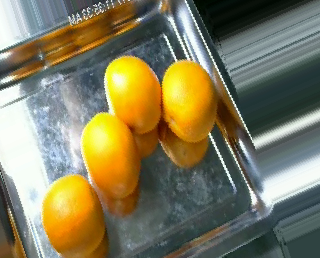Orange: (81, 110, 140, 198), (41, 173, 104, 255), (102, 54, 161, 134), (160, 59, 217, 141)
